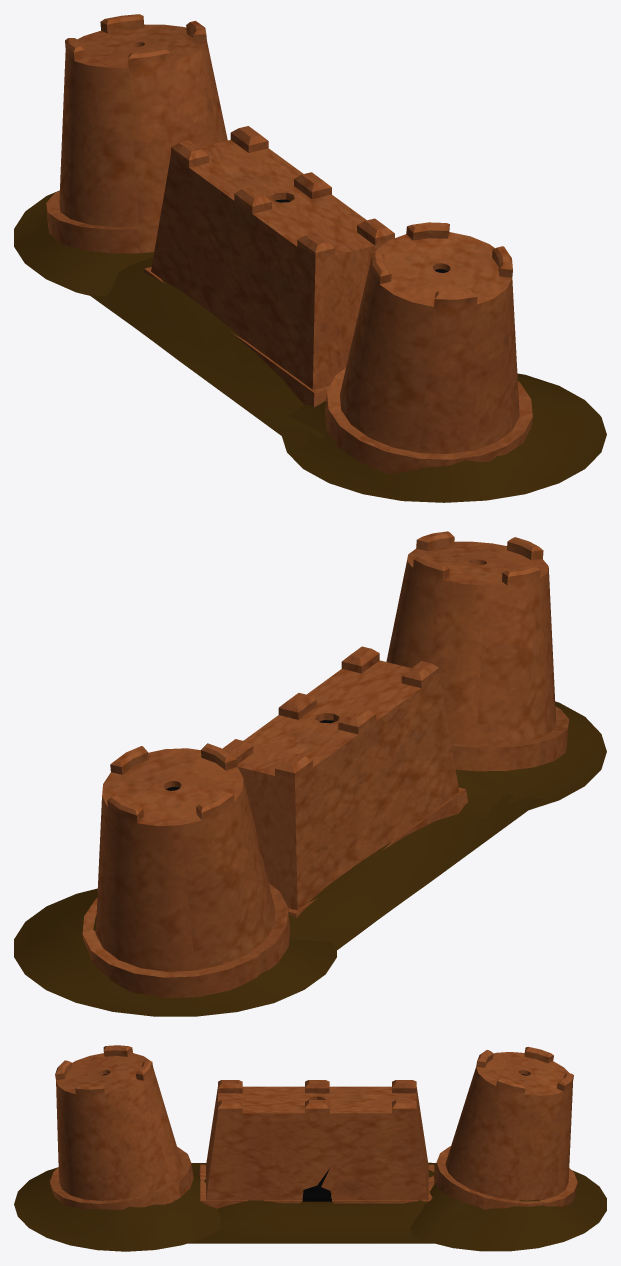
File: Castle 6.fbx
The picture shows the model from 3 angles, top to bottom: view 1: azimuth 30°, elevation 25°; view 2: azimuth 150°, elevation 25°; view 3: azimuth 270°, elevation 25°; orthographic projection. The views are drawn at different scales.
Parts seen in each view (by area): view 1: pCube4882, pCylinder655, pCylinder662, pDisc1, pPlane1, pDisc2; view 2: pCylinder662, pCube4882, pCylinder655, pDisc2, pPlane1, pDisc1; view 3: pCube4882, pCylinder655, pCylinder662, pDisc1, pPlane1, pDisc2.
Part boxes in pixels (<box>): pCube4882: <box>143,126,394,407</box>; pCylinder655: <box>325,222,532,473</box>; pCylinder662: <box>46,14,227,253</box>; pDisc1: <box>282,373,606,502</box>; pPlane1: <box>90,257,324,447</box>; pDisc2: <box>14,190,154,296</box>; pCylinder662: <box>82,743,290,998</box>; pCube4882: <box>222,646,468,917</box>; pCylinder655: <box>386,531,569,771</box>; pDisc2: <box>14,888,336,1016</box>; pPlane1: <box>289,793,543,950</box>; pDisc1: <box>455,701,606,817</box>; pCube4882: <box>199,1080,434,1208</box>; pCylinder655: <box>50,1045,193,1209</box>; pCylinder662: <box>434,1047,577,1209</box>; pDisc1: <box>14,1167,220,1251</box>; pPlane1: <box>188,1162,436,1243</box>; pDisc2: <box>410,1170,606,1251</box>.
Size of the model in its own units: 122 by 83.22 by 322.
